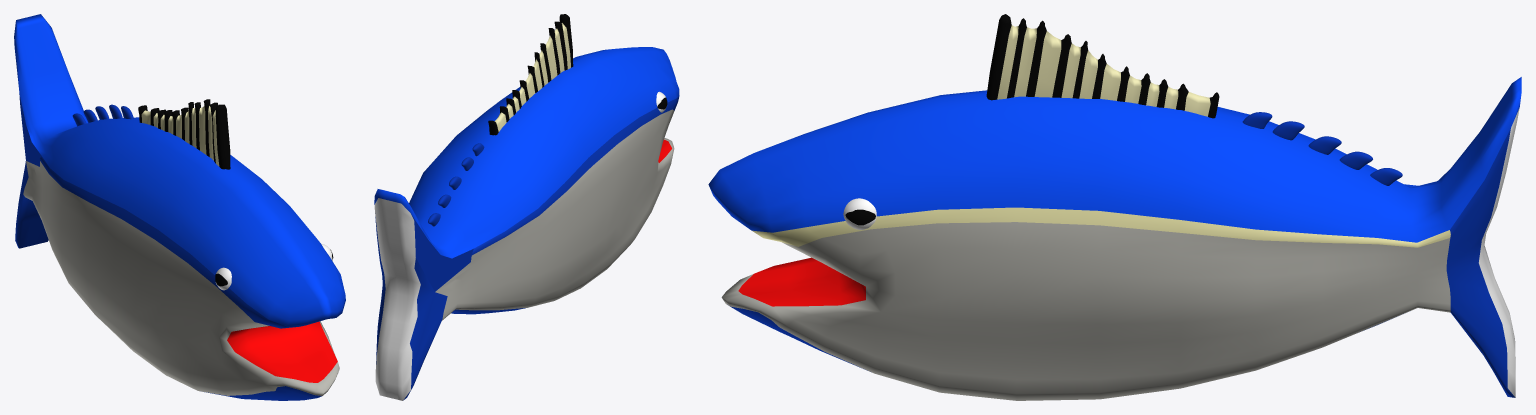
3 renders of one model, left to right at view 1: azimuth 30°, elevation 25°; view 2: azimuth 150°, elevation 25°; view 3: azimuth 270°, elevation 25°, orthographic. The views are drawn at different scales.
Visible parts, largest first — view 1: pCube8, pCube2, pSphere2; view 2: pCube8, pCube2; view 3: pCube8, pCube2, pSphere1.
Part boxes in pixels (<box>): pCube8: <box>14,14,345,400</box>; pCube2: <box>138,99,230,169</box>; pSphere2: <box>215,267,231,290</box>; pCube8: <box>374,47,679,400</box>; pCube2: <box>488,14,573,135</box>; pCube8: <box>708,77,1521,400</box>; pCube2: <box>986,14,1219,118</box>; pSphere1: <box>843,198,876,229</box>.
Size of the model in its own units: 4.27 by 7.83 by 15.38.
